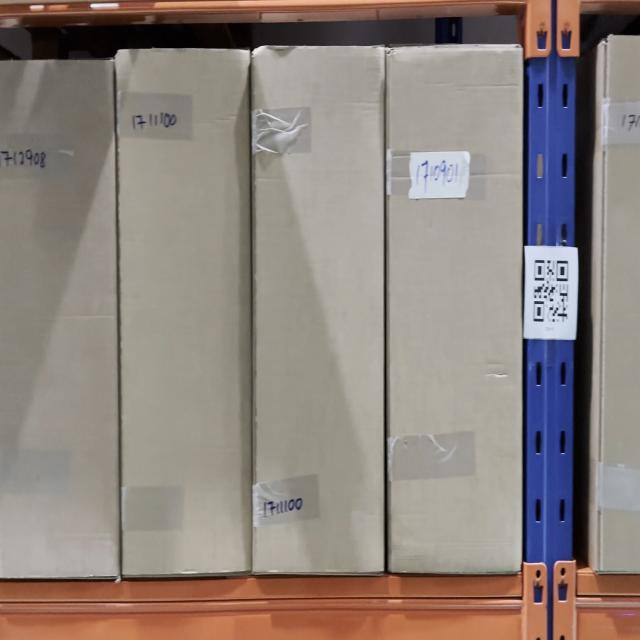box: (253, 44, 387, 575), (388, 48, 522, 576), (117, 48, 249, 576), (1, 59, 117, 574), (600, 34, 640, 572)
